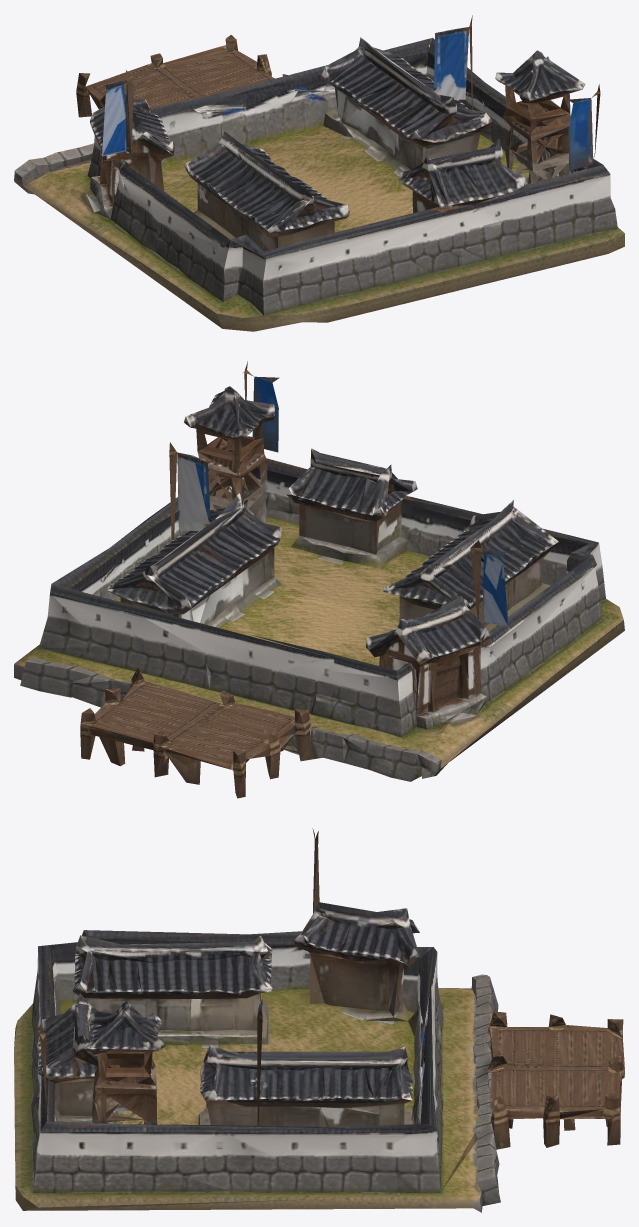
File: camp_joseon_2.glb
The picture shows the model from 3 angles, top to bottom: view 1: azimuth 30°, elevation 25°; view 2: azimuth 150°, elevation 25°; view 3: azimuth 270°, elevation 25°; orthographic projection. The views are drawn at different scales.
Parts seen in each view (by area): view 1: camp_joseon_2; view 2: camp_joseon_2; view 3: camp_joseon_2.
Boxes of the visible parts, box(x1,y1,x2,y2) form: camp_joseon_2: box(14, 15, 624, 331); camp_joseon_2: box(14, 361, 624, 798); camp_joseon_2: box(14, 828, 624, 1212).
Bounding box in the file's own units: 0.8513 × 0.3473 × 1.
Materials: 1 (1 with a texture image).
